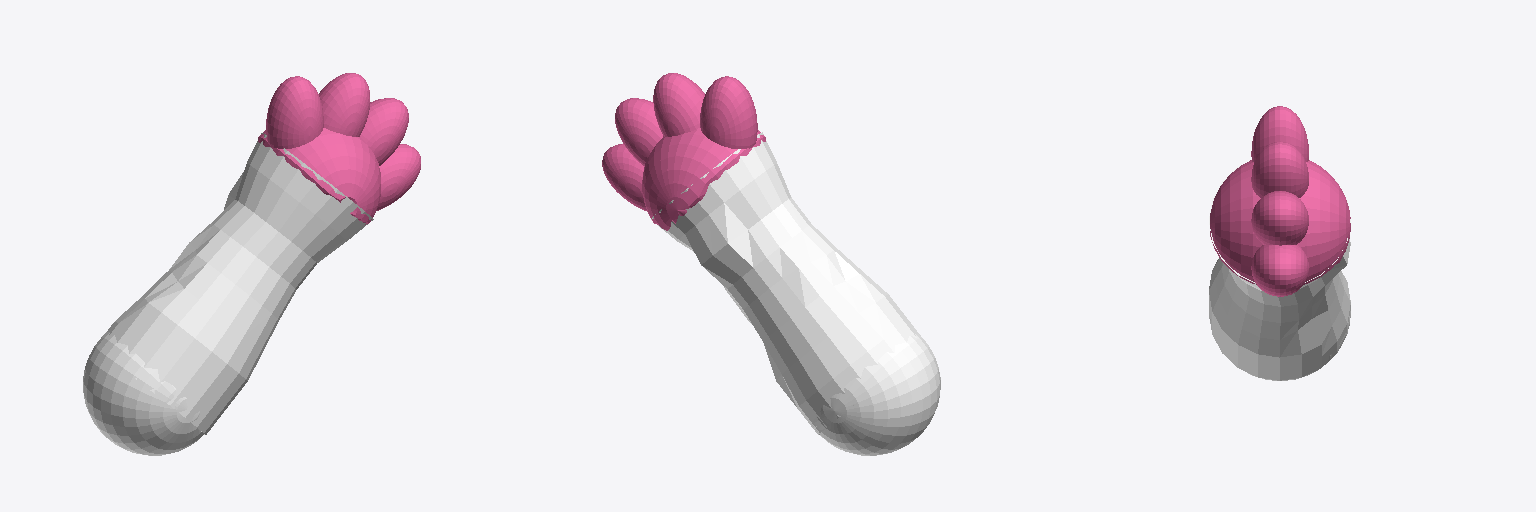
3 renders of one model, left to right at view 1: azimuth 30°, elevation 25°; view 2: azimuth 150°, elevation 25°; view 3: azimuth 270°, elevation 25°, orthographic.
Parts seen in each view (by area): view 1: mano_i; view 2: mano_i; view 3: mano_i.
Boxes of the visible parts, <box> form: mano_i: <box>83,73,420,455</box>; mano_i: <box>602,73,940,455</box>; mano_i: <box>1209,106,1350,380</box>.
Size of the model in its own units: 3.72 by 3.66 by 1.4.
1 materials, 1 textured.